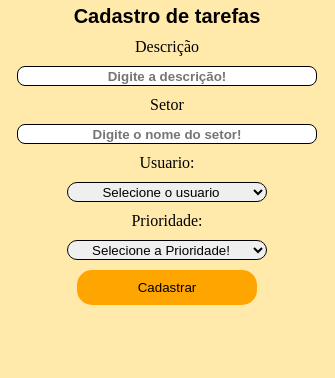
Test: Cadastro de Tarefa › deve mostrar erros quando campos estiverem vazios
The image size is (335, 378).
Click the button "Cadastrar": (167, 288) [77,270,257,305]
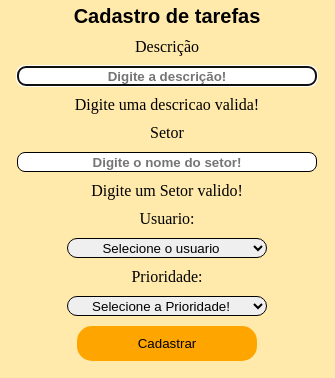
Expected: the text "Digite uma descricao valida!" is shown, [75,96,259,114]
Expected: the text "Digite um Setor valido!" is shown, [91,182,243,200]
